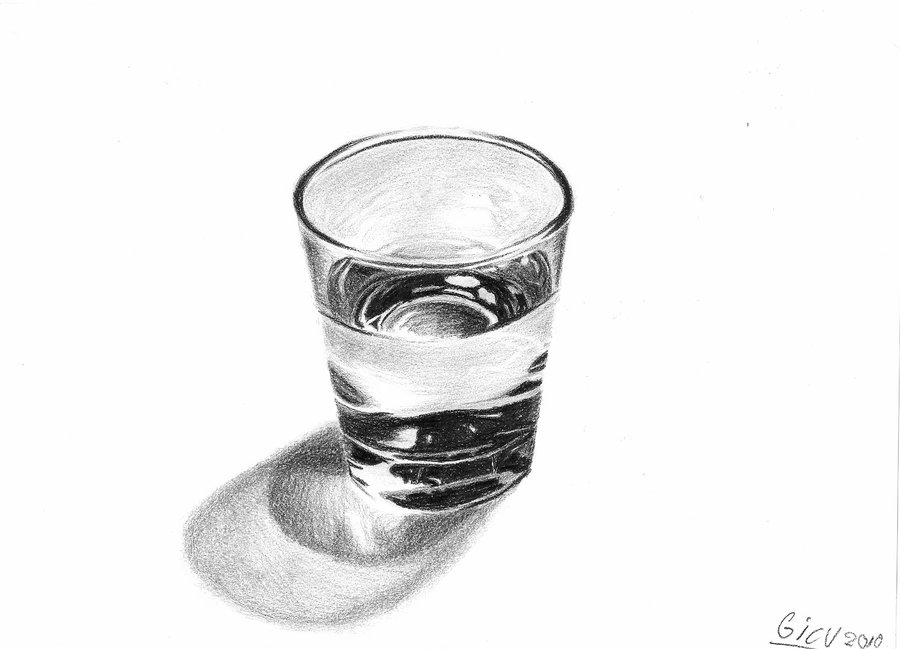glass of water: (304, 156, 575, 515)
